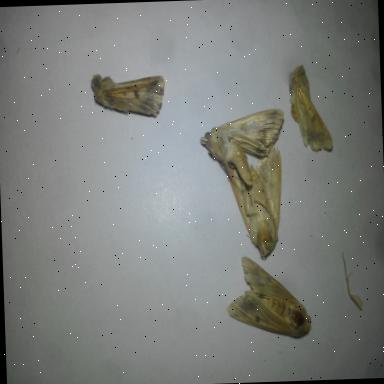abw: (222, 249, 314, 345), (218, 142, 288, 264), (196, 104, 288, 191), (88, 65, 168, 125), (286, 60, 335, 156)
